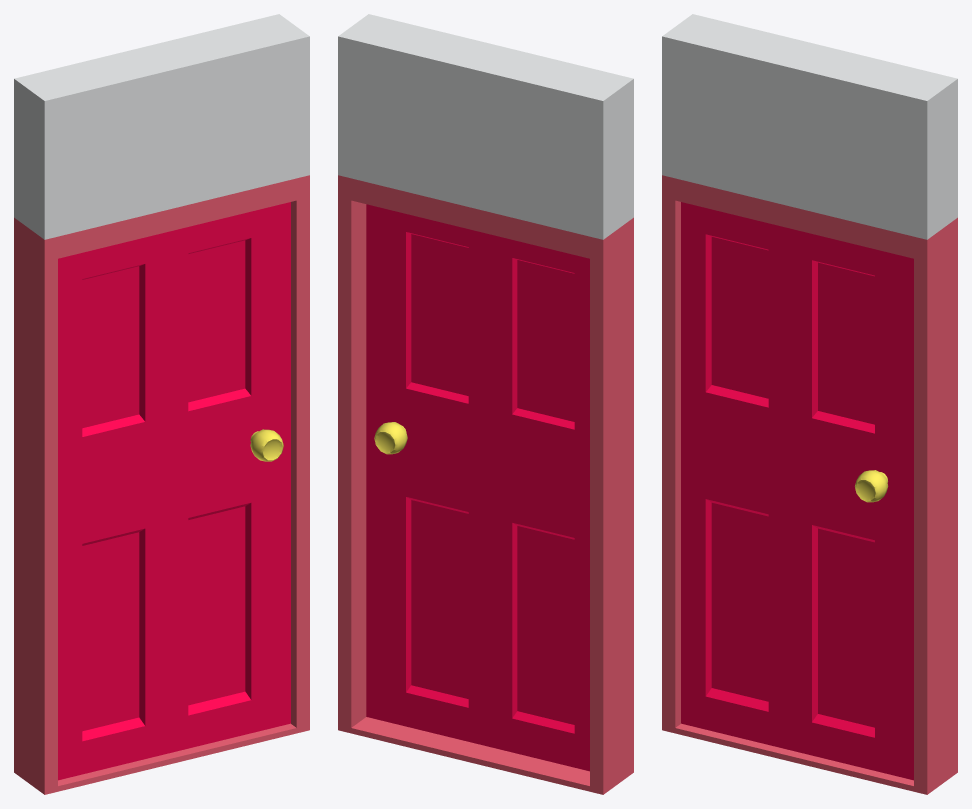
File: mor_door.glb
3 views of the same model, side by side, from view 1: azimuth 30°, elevation 25°; view 2: azimuth 150°, elevation 25°; view 3: azimuth 330°, elevation 25° (orthographic).
Parts seen in each view (by area): view 1: Object_4, Object_2, Object_3, Object_5; view 2: Object_4, Object_3, Object_2, Object_5; view 3: Object_4, Object_2, Object_3, Object_5.
Boxes of the visible parts, x1,y1,x2,y2 form: Object_4: (58,202,290,780); Object_2: (14,14,309,239); Object_3: (14,175,309,794); Object_5: (250,429,283,461); Object_4: (366,204,589,771); Object_3: (338,175,633,794); Object_2: (338,14,633,239); Object_5: (374,422,407,454); Object_4: (681,202,913,780); Object_2: (662,14,957,239); Object_3: (662,175,957,794); Object_5: (855,470,888,502).
Size of the model in its own units: 1.11 by 2.78 by 0.3264.
